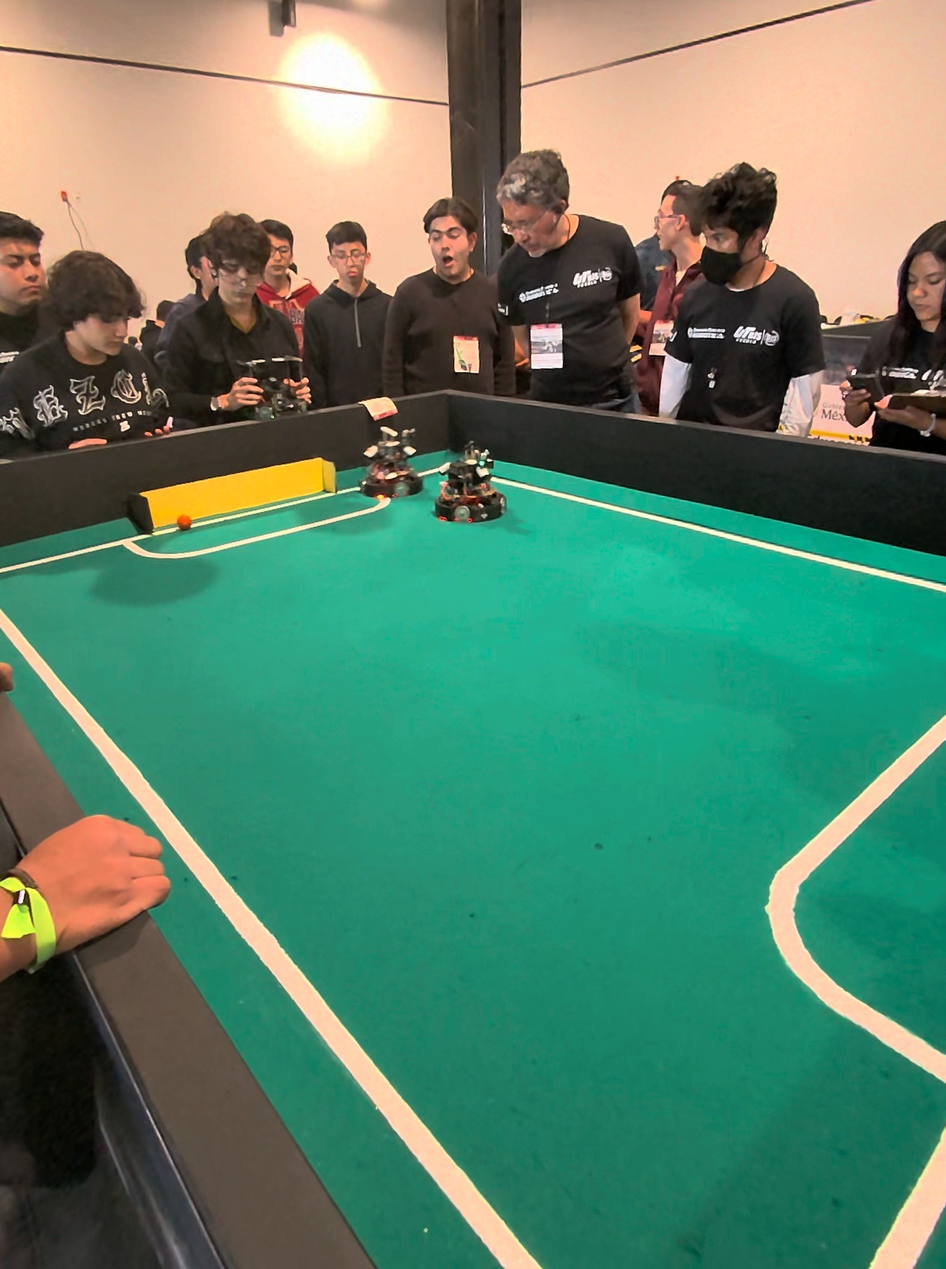Robot: (435, 441, 507, 530), (357, 415, 420, 504)
pelota: (177, 514, 192, 530)
